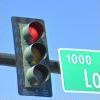traffic lights: (13, 15, 52, 97)
